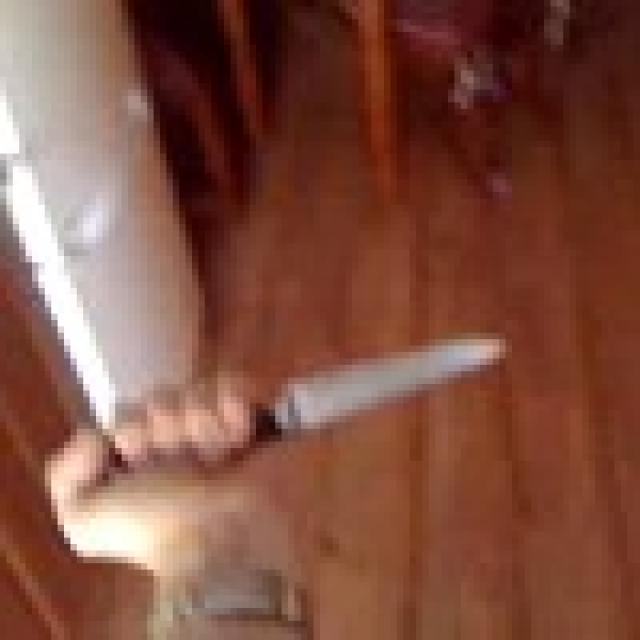Knife: (109, 333, 525, 448)
